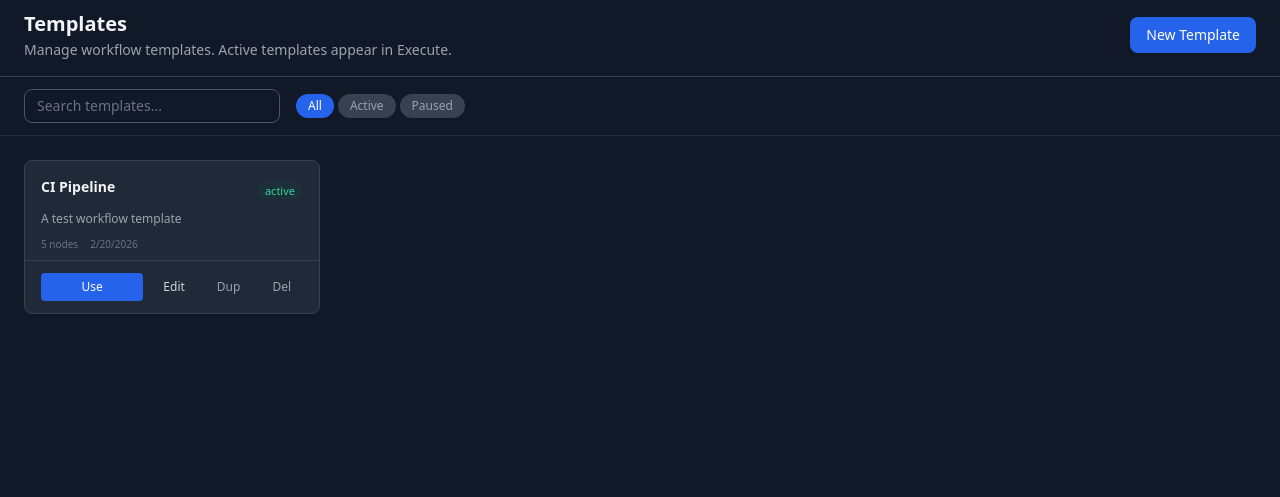
it: TemplateManagerPage › search by name › shows "No templates match your search" when search returns nothing
Expected: the heading "CI Pipeline" is shown, [41,177,115,196]
Type "nonexistent" into the field with test id "template-search" at (152, 106), box [24,89,280,123]
Wait 400 ms
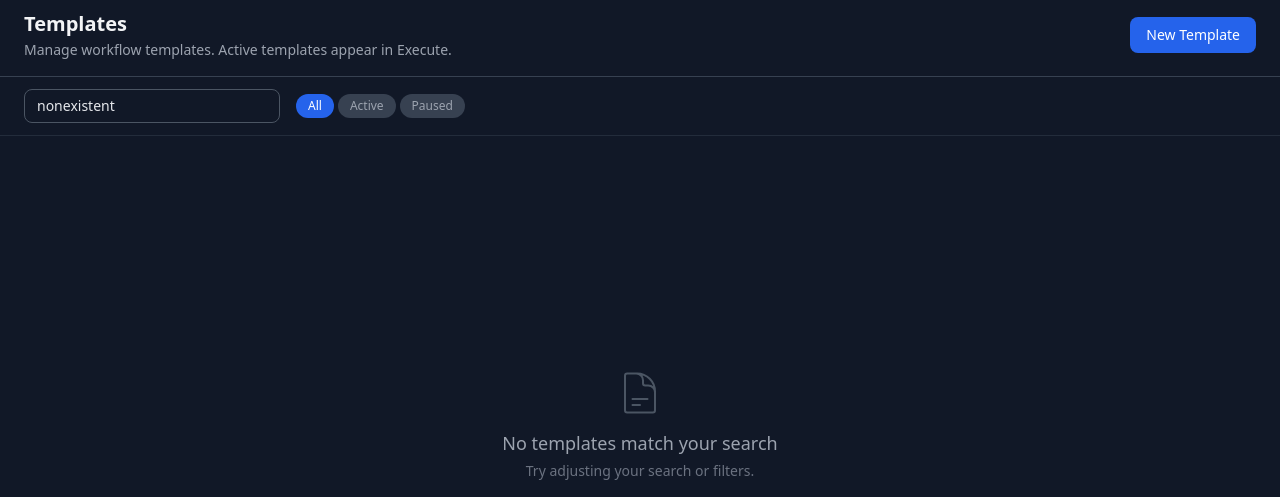
Expected: the heading "No templates match your search" is shown, [502,429,778,457]
